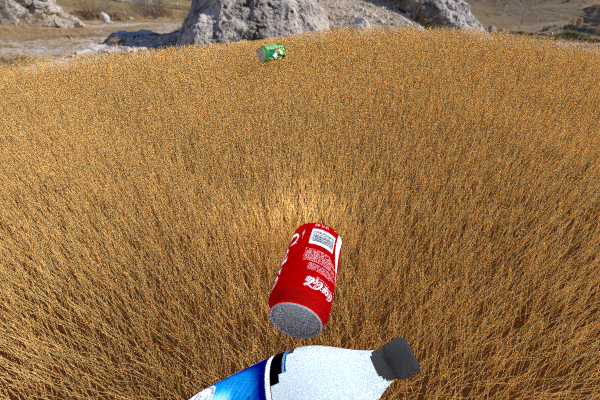bottle: (34, 337, 420, 400)
can: (268, 222, 342, 338), (256, 42, 285, 62)
